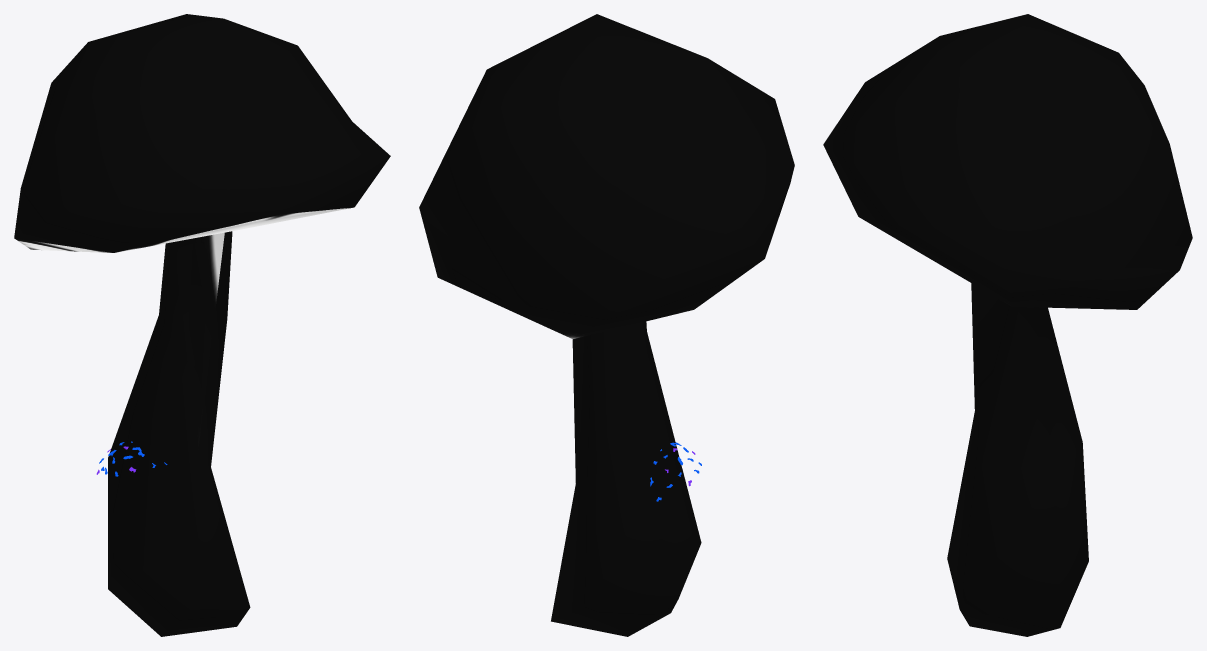
The model's file is mashroom.glb.
3 renders of one model, left to right at view 1: azimuth 30°, elevation 25°; view 2: azimuth 150°, elevation 25°; view 3: azimuth 270°, elevation 25°, orthographic.
Parts seen in each view (by area): view 1: Cube.012; view 2: Cube.012; view 3: Cube.012.
Boxes of the visible parts, bbox=[...] form: Cube.012: bbox=[14, 14, 390, 636]; Cube.012: bbox=[419, 14, 794, 636]; Cube.012: bbox=[823, 14, 1192, 636].
Bounding box in the file's own units: 0.9943 × 1.67 × 0.953.
3 materials, 1 textured.
